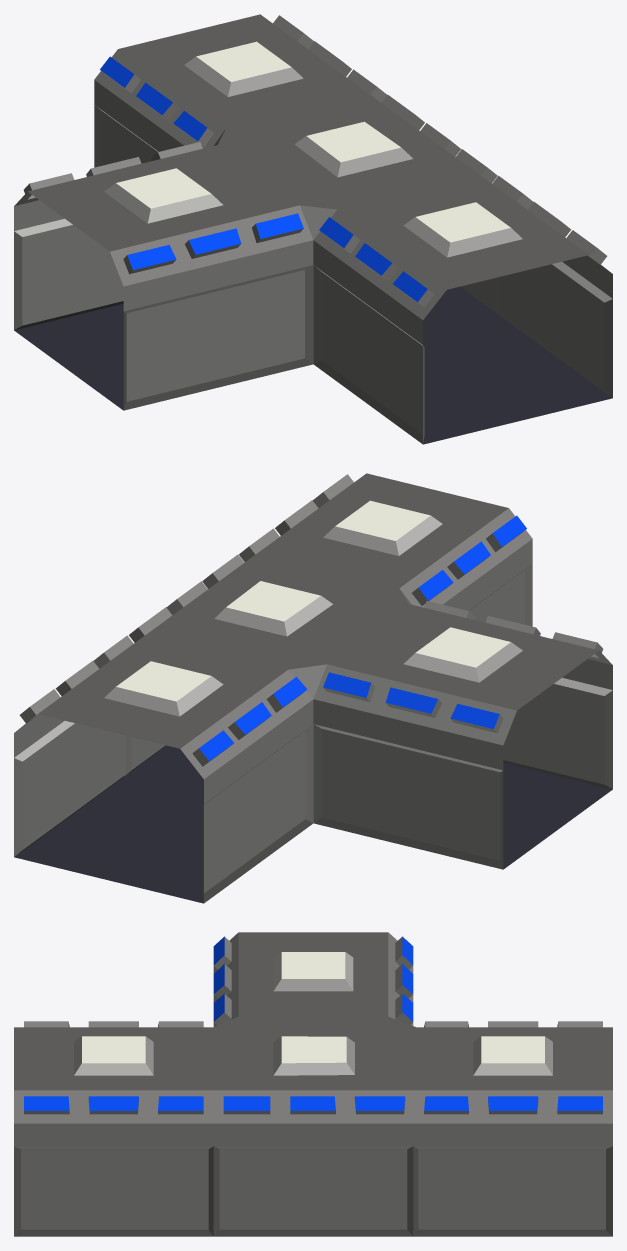
Rendered from t_section.fbx.
The picture shows the model from 3 angles, top to bottom: view 1: azimuth 30°, elevation 25°; view 2: azimuth 150°, elevation 25°; view 3: azimuth 270°, elevation 25°; orthographic projection. The views are drawn at different scales.
Visible parts, largest first — view 1: T_section3.001; view 2: T_section3.001; view 3: T_section3.001.
Boxes of the visible parts, <box> form: T_section3.001: <box>14,14,612,444</box>; T_section3.001: <box>14,473,612,903</box>; T_section3.001: <box>14,932,612,1236</box>.
Size of the model in its own units: 8 by 3.2 by 12.
